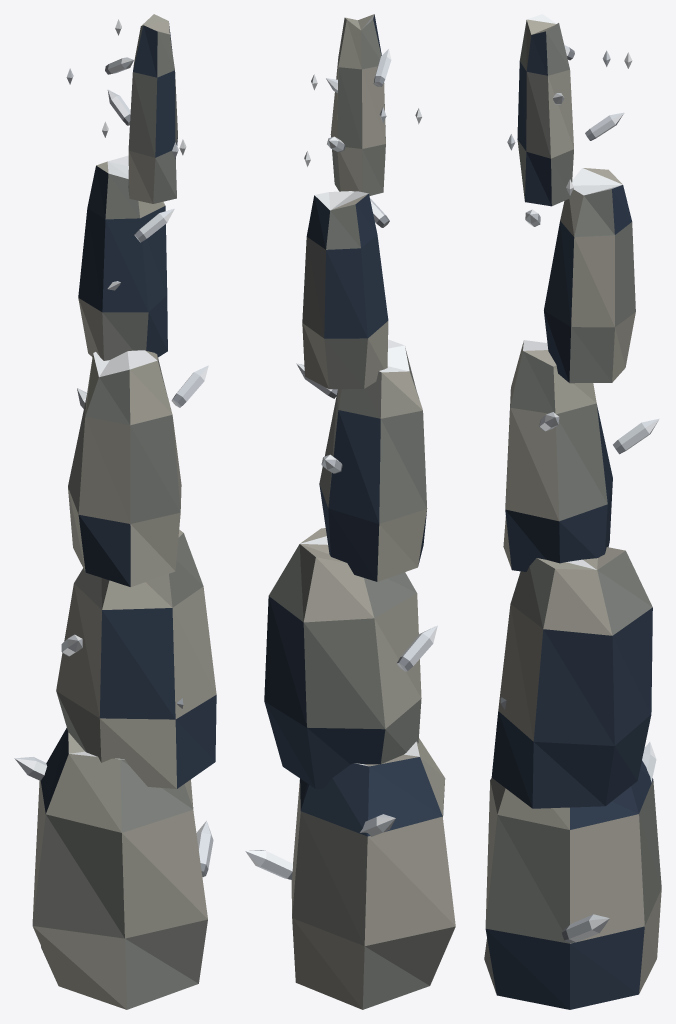
File: StormSpire.obj
3 renders of one model, left to right at view 1: azimuth 30°, elevation 25°; view 2: azimuth 150°, elevation 25°; view 3: azimuth 270°, elevation 25°, orthographic. The views are drawn at different scales.
Size of the model in its own units: 16.61 by 78.1 by 12.97.
